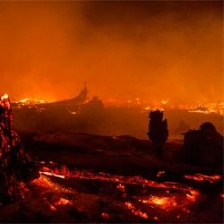fire: (24, 158, 197, 219), (1, 87, 222, 122)
